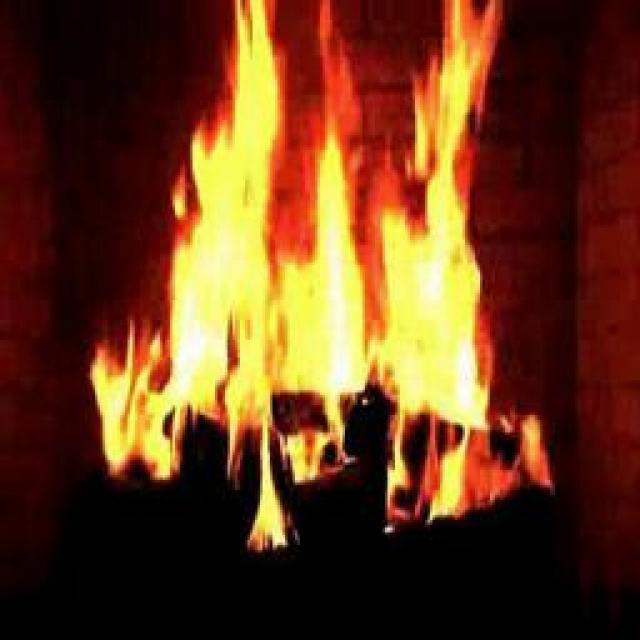Fire: (143, 41, 486, 489)
